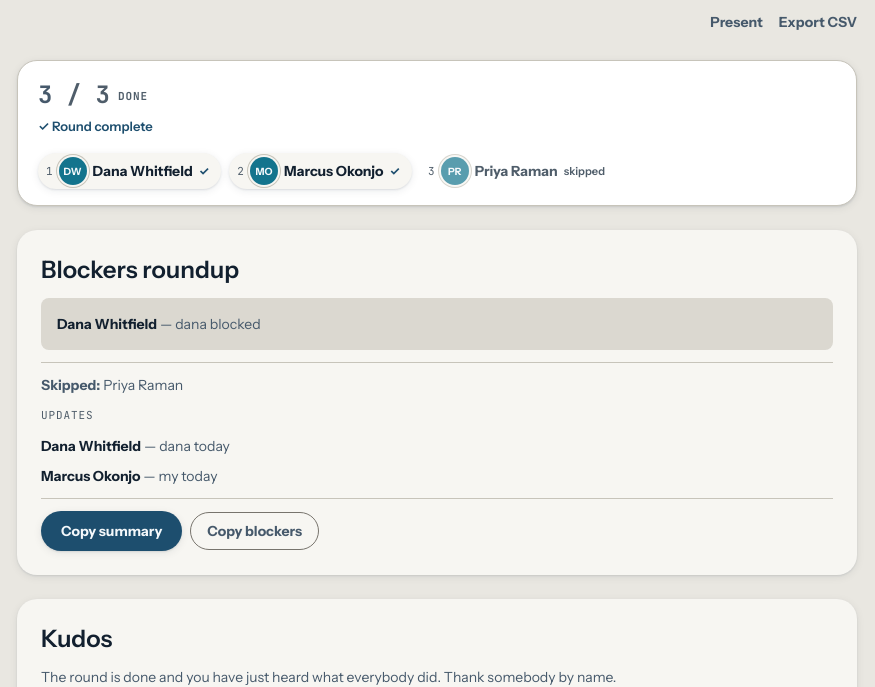
Test: StandupRoom re-reading entries › keeps every entry reachable after the standup is done
Click the button "1 DW Dana Whitfield ✓": click(130, 171) x1=38 y1=152 x2=221 y2=189
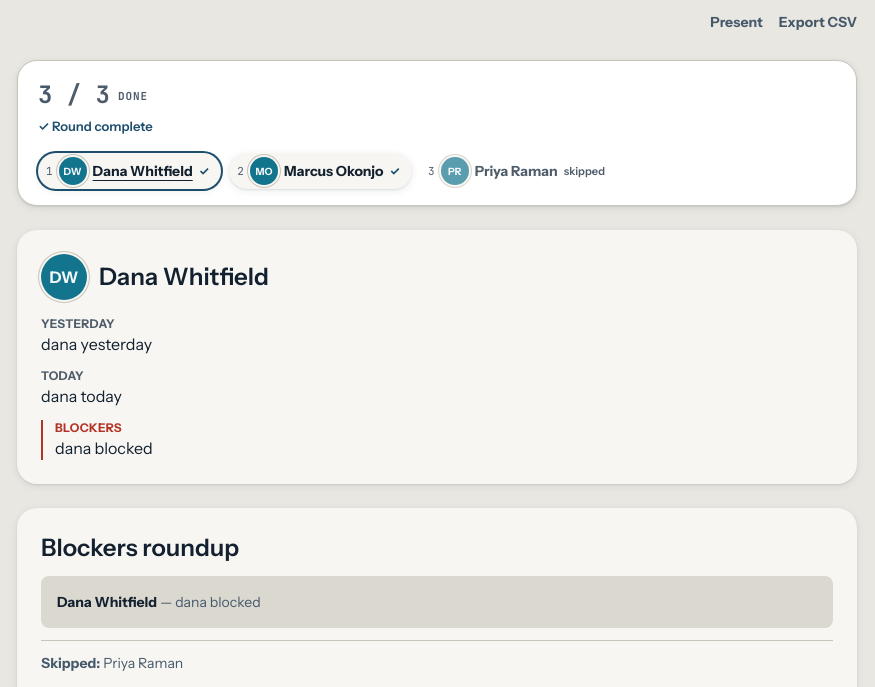
expect the text "dana yesterday" is shown: met, box x1=41 y1=334 x2=152 y2=354
expect the text "dana blocked" is shown: met, box x1=55 y1=438 x2=153 y2=458
